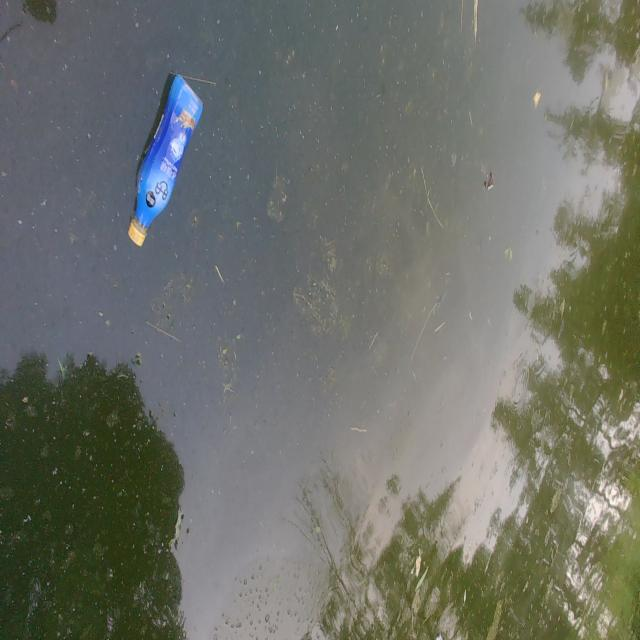Bottle: (125, 66, 205, 249)
